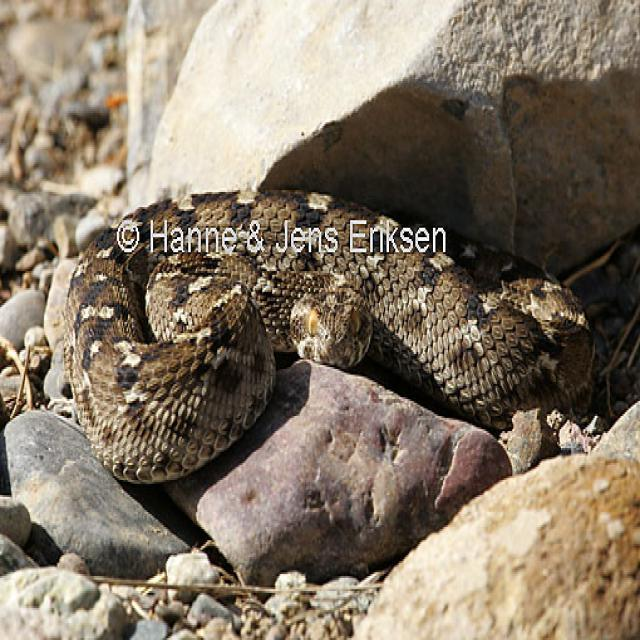Snake: (60, 184, 595, 486)
